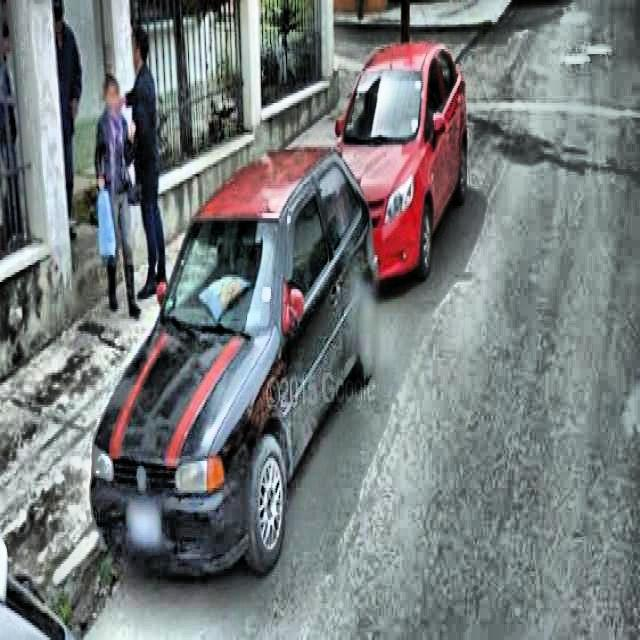carro: (101, 174, 376, 576), (360, 38, 466, 290)
